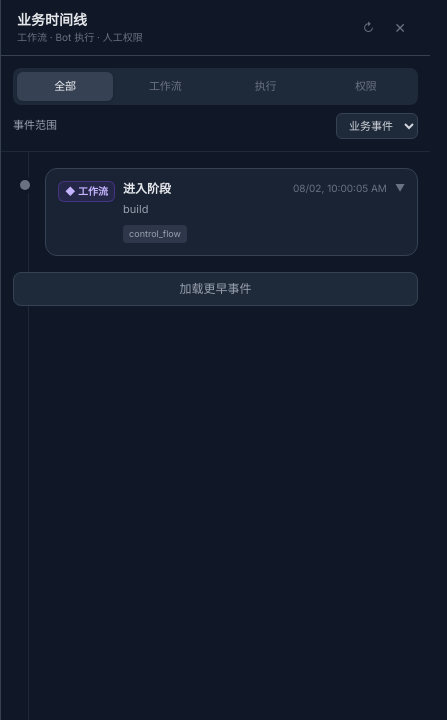
Test: TimelinePanel › loads older events with the opaque cursor
The image size is (447, 720).
What coordinates should you click on to do the following:
click the button "加载更早事件"
I would click on:
 (216, 288)
Its box is [13,272,418,306].
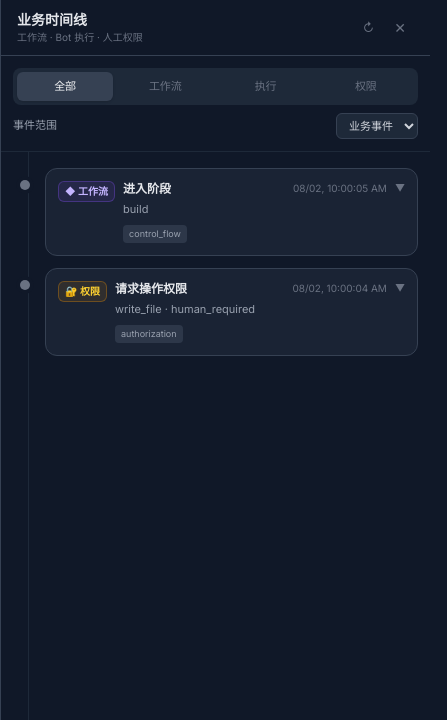
Result: the heading "请求操作权限" is shown at [115,280,187,296]
